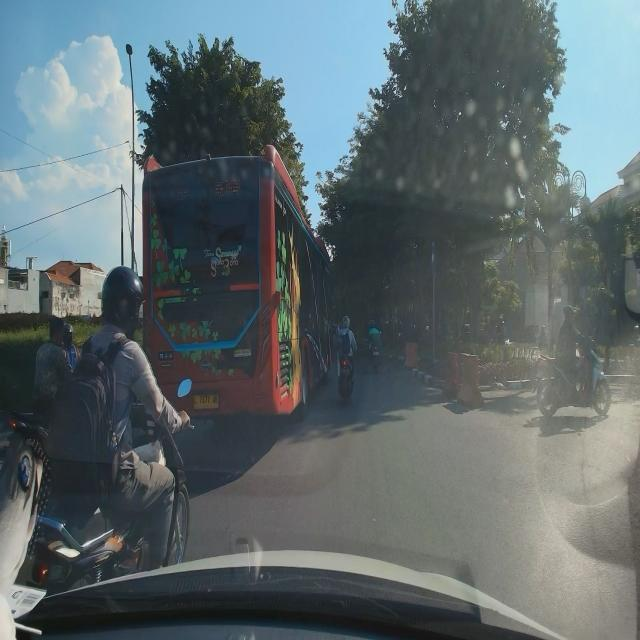bus: (141, 145, 334, 417)
license-plate: (193, 394, 219, 410)
